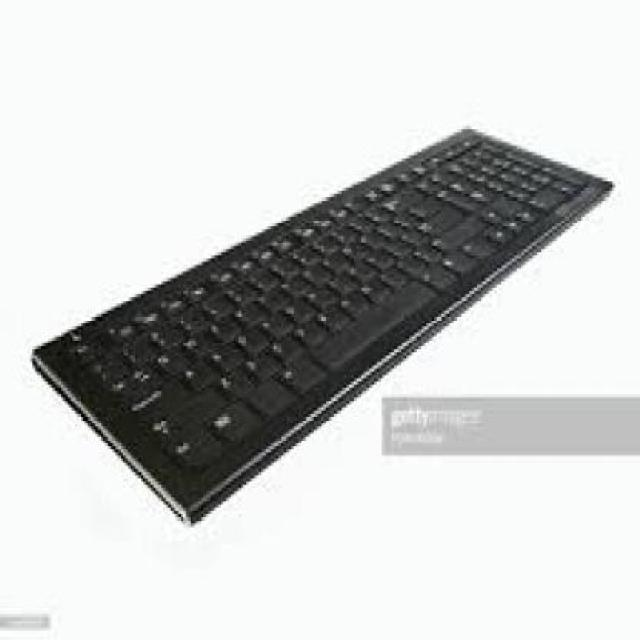keyboard: (28, 125, 619, 528)
